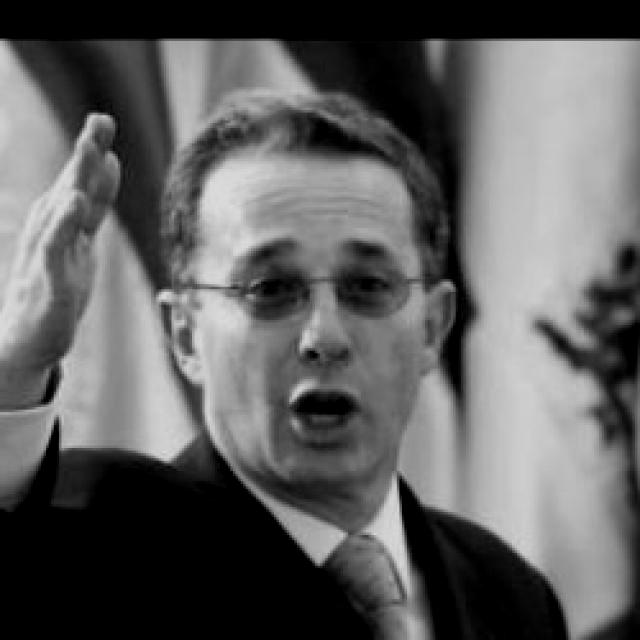real: (198, 127, 446, 513), (231, 255, 410, 327)
